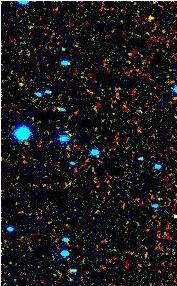star: (132, 2, 162, 32)
